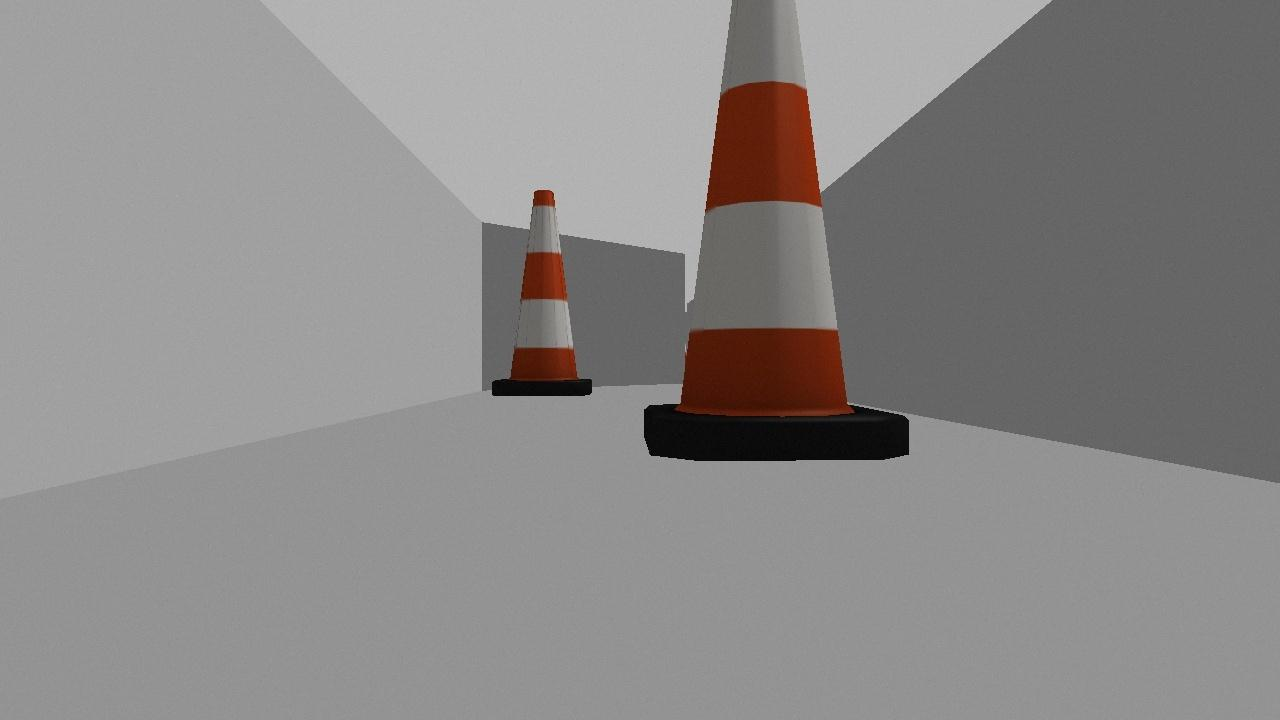cone_barrel: (625, 0, 919, 466), (483, 181, 597, 401)
